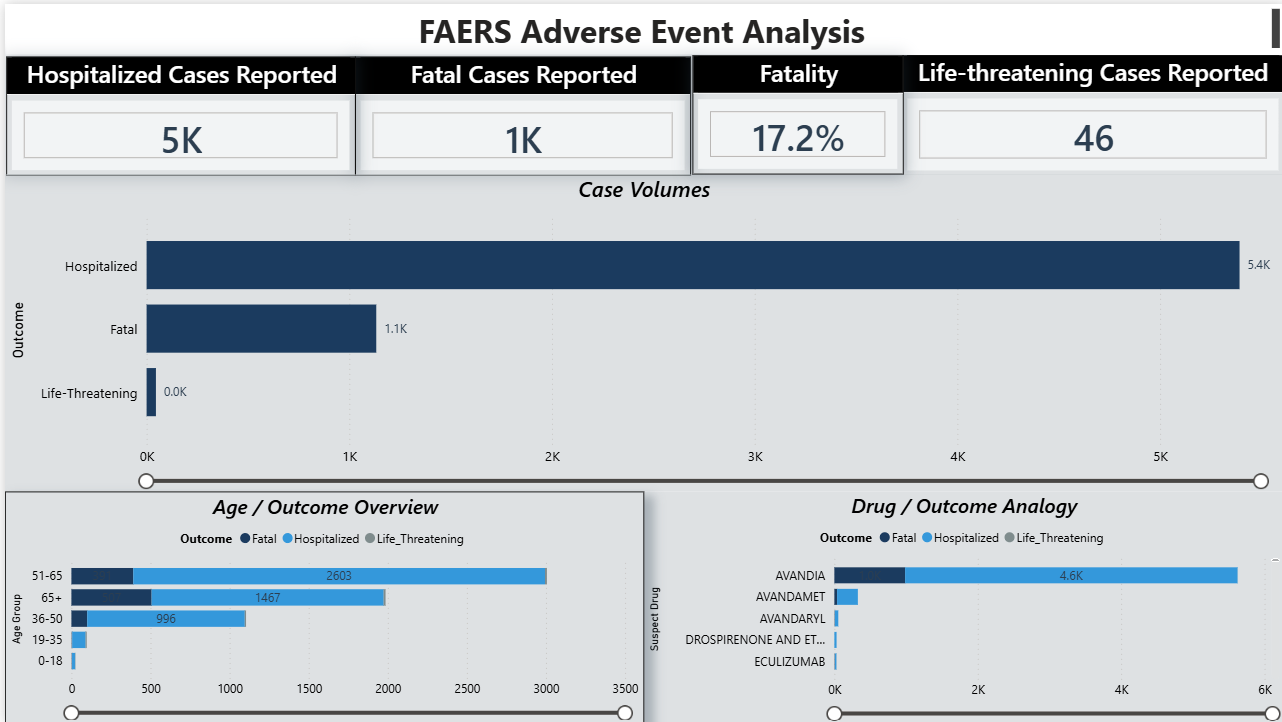

The page's visual inventory and layout, read from the dashboard file:
{"tool":"powerbi","page":{"name":"Page 1","canvas":[1280,720],"ordinal":0},"visuals":[{"type":"cardVisual","title":"Fatal Cases Reported","fields":{"Data":["Sum(powerbi_outcomes.Fatal)"]},"box":[349.9,52.1,336.2,119.4],"z":0},{"type":"cardVisual","title":"Life-threatening Cases Reported","fields":{"Data":["Sum(powerbi_outcomes.Life_Threatening)"]},"box":[897.4,50.8,381.5,119.4],"z":1000},{"type":"cardVisual","title":"Hospitalized Cases Reported","fields":{"Data":["Sum(powerbi_outcomes.Hospitalized)"]},"box":[1.4,52.1,349.9,119.4],"z":2000},{"type":"clusteredBarChart","title":"Case Volumes","fields":{"Category":["powerbi_outcomes3.Outcome"],"Y":["Sum(powerbi_outcomes3.Count)"]},"box":[1.4,170.2,1278.9,317],"z":3000},{"type":"cardVisual","title":"Fatality ","fields":{"Data":["powerbi_outcomes.Fatal Rate"]},"box":[687.5,50.8,211.3,119.4],"z":4000},{"type":"barChart","title":"Drug / Outcome Analogy","fields":{"Category":["drug_outcome_pbi.suspect_drug"],"Series":["drug_outcome_pbi.Outcome"],"Y":["Sum(drug_outcome_pbi.Count)"]},"box":[639.5,487.1,640.8,233.3],"z":5000},{"type":"barChart","title":"Age / Outcome Overview","fields":{"Category":["age_outcome_pbi.age_group"],"Series":["age_outcome_pbi.Outcome"],"Y":["Sum(age_outcome_pbi.Count)"]},"box":[0,487.1,639.5,233.3],"z":6000},{"type":"textbox","box":[1.4,0,1278.9,50.8],"z":7000}]}

Visuals, with their boxes in screenshot pixels (x1, y1, x2, y2), scaled from the page's 1280x720 canvas onto the 1282x722 screenshot:
"Fatal Cases Reported" cardVisual: {"left": 350, "top": 52, "right": 687, "bottom": 172}
"Life-threatening Cases Reported" cardVisual: {"left": 899, "top": 51, "right": 1281, "bottom": 171}
"Hospitalized Cases Reported" cardVisual: {"left": 1, "top": 52, "right": 352, "bottom": 172}
"Case Volumes" clusteredBarChart: {"left": 1, "top": 171, "right": 1281, "bottom": 489}
"Fatality " cardVisual: {"left": 689, "top": 51, "right": 900, "bottom": 171}
"Drug / Outcome Analogy" barChart: {"left": 640, "top": 488, "right": 1281, "bottom": 721}
"Age / Outcome Overview" barChart: {"left": 0, "top": 488, "right": 640, "bottom": 721}
textbox: {"left": 1, "top": 0, "right": 1281, "bottom": 51}
